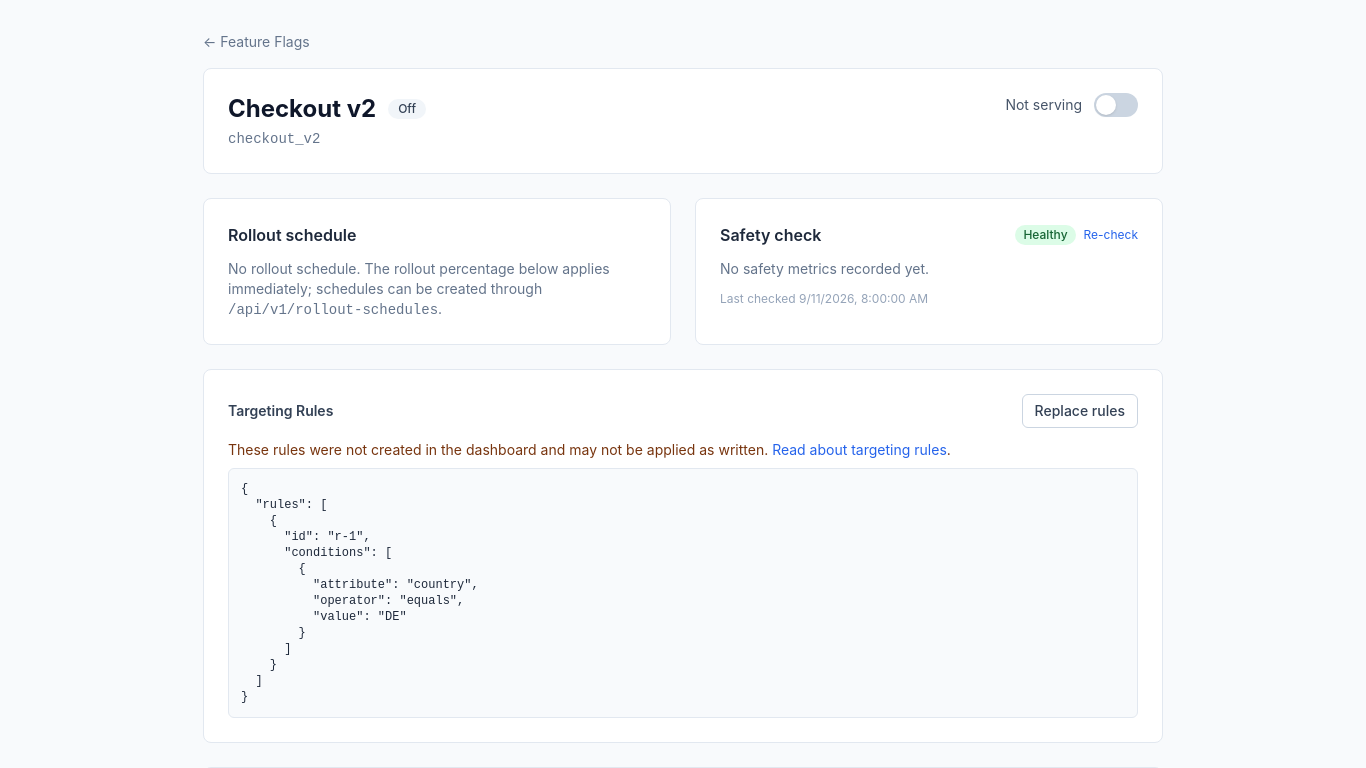
Test case: stored rules the builder cannot show › replace, cancel: nothing changes and nothing is sent
The image size is (1366, 768).
Click the button "Replace rules". click: (1080, 411)
box: [1022,394,1138,428]
(page scrolled)
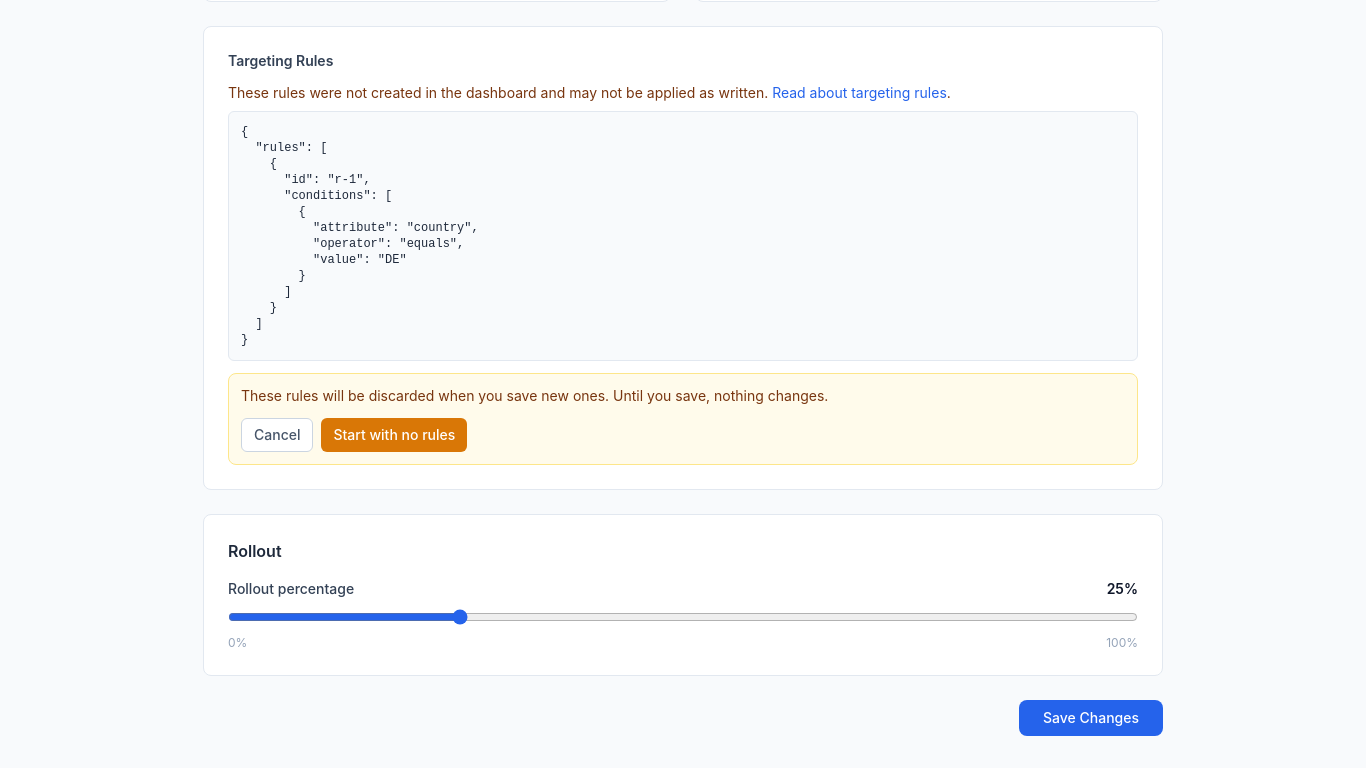
Check: the dialog named "Replace rules" is shown, box [228,373,1138,465]
Click the button "Cancel". click: (277, 435)
box: [241,418,314,452]
(page scrolled)
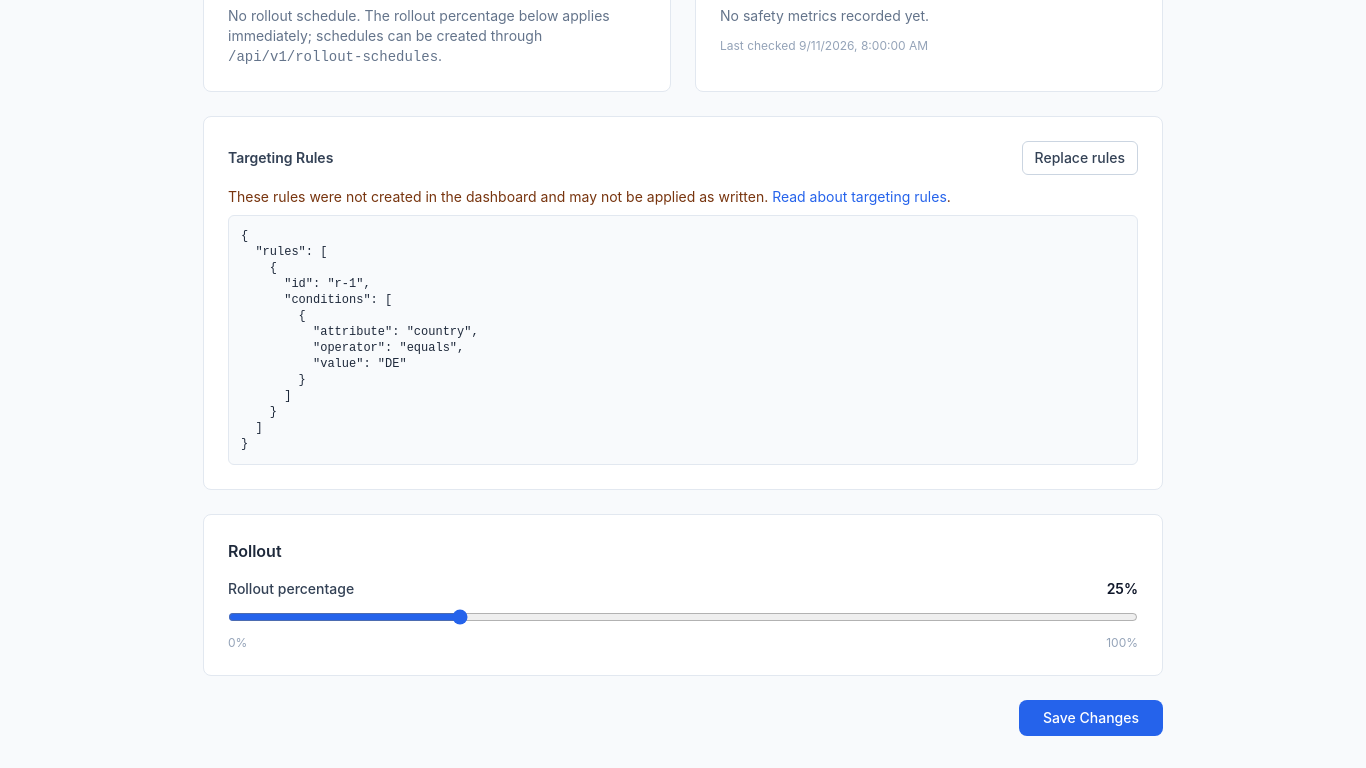
Check: the element with test id "targeting-raw" is shown, box [228,141,1138,465]
Set the slider with test id "rollout-percentage" to "30". click: (504, 617)
box: [228,609,1138,625]
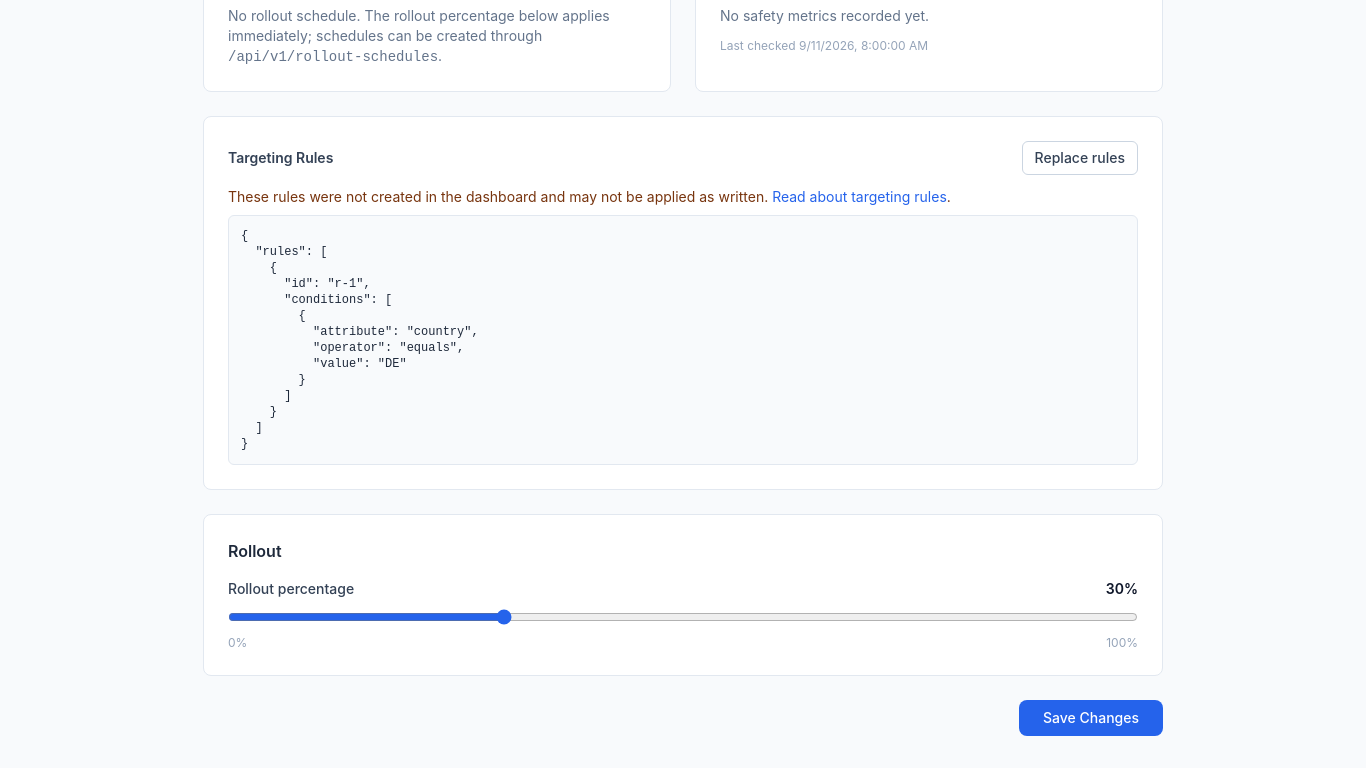
Click the button with test id "save-flag". click: (1091, 718)
box: [1019,700,1163,736]
(page scrolled)
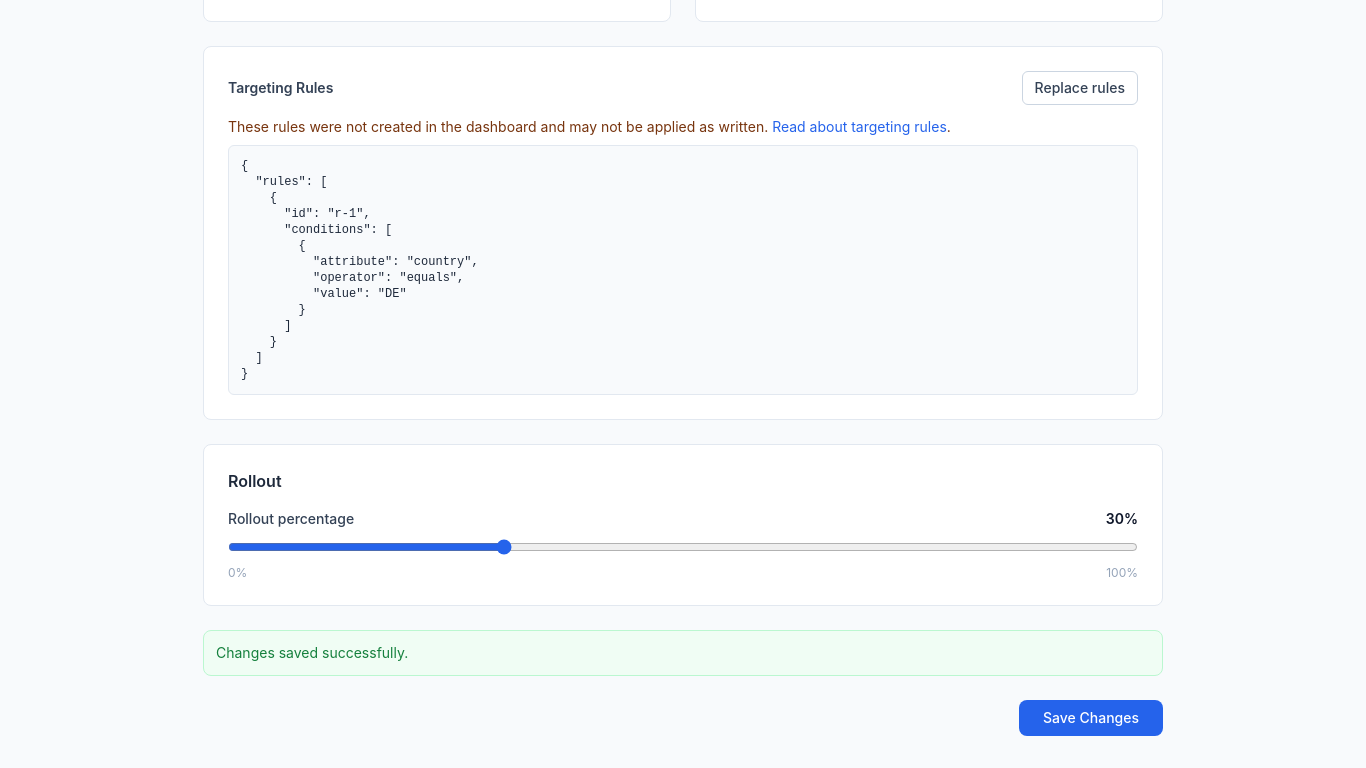
Check: the message "Changes saved successfully." is shown, box [203,630,1163,676]
